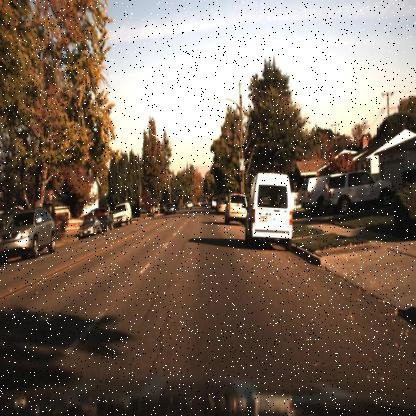car: (241, 165, 298, 251), (241, 170, 294, 250), (320, 162, 397, 212), (1, 206, 57, 268), (298, 173, 328, 219), (222, 186, 246, 230), (79, 211, 102, 242), (111, 201, 135, 230), (112, 200, 136, 228), (78, 212, 102, 239), (161, 194, 177, 216), (100, 210, 113, 234), (215, 194, 225, 217), (91, 206, 104, 221)
